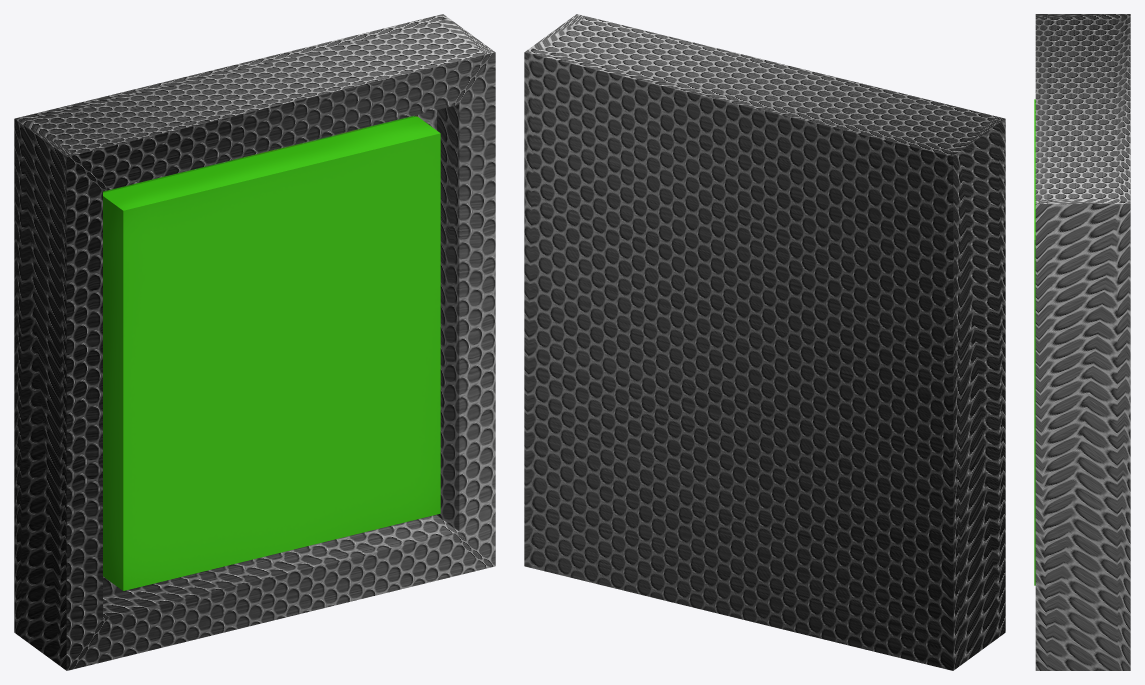
File: GreenPushButton.fbx
3 renders of one model, left to right at view 1: azimuth 30°, elevation 25°; view 2: azimuth 150°, elevation 25°; view 3: azimuth 270°, elevation 25°, orthographic. The views are drawn at different scales.
Visible parts, largest first — view 1: pCube1; view 2: pCube1; view 3: pCube1.
Part boxes in pixels (box(x1,y1,x2,y2)): pCube1: box(14, 14, 495, 670); pCube1: box(524, 14, 1005, 670); pCube1: box(1034, 14, 1130, 670).
Bounding box in the file's own units: 4.81 × 5.51 × 1.03.
